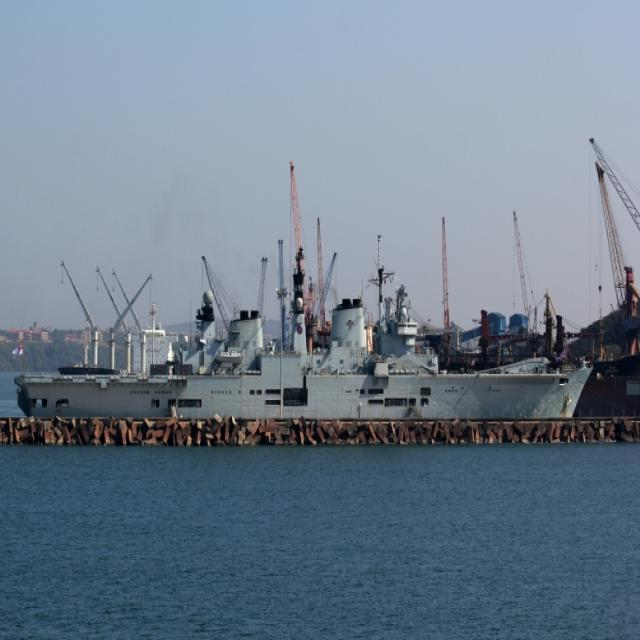Portanaves: (11, 273, 605, 422)
